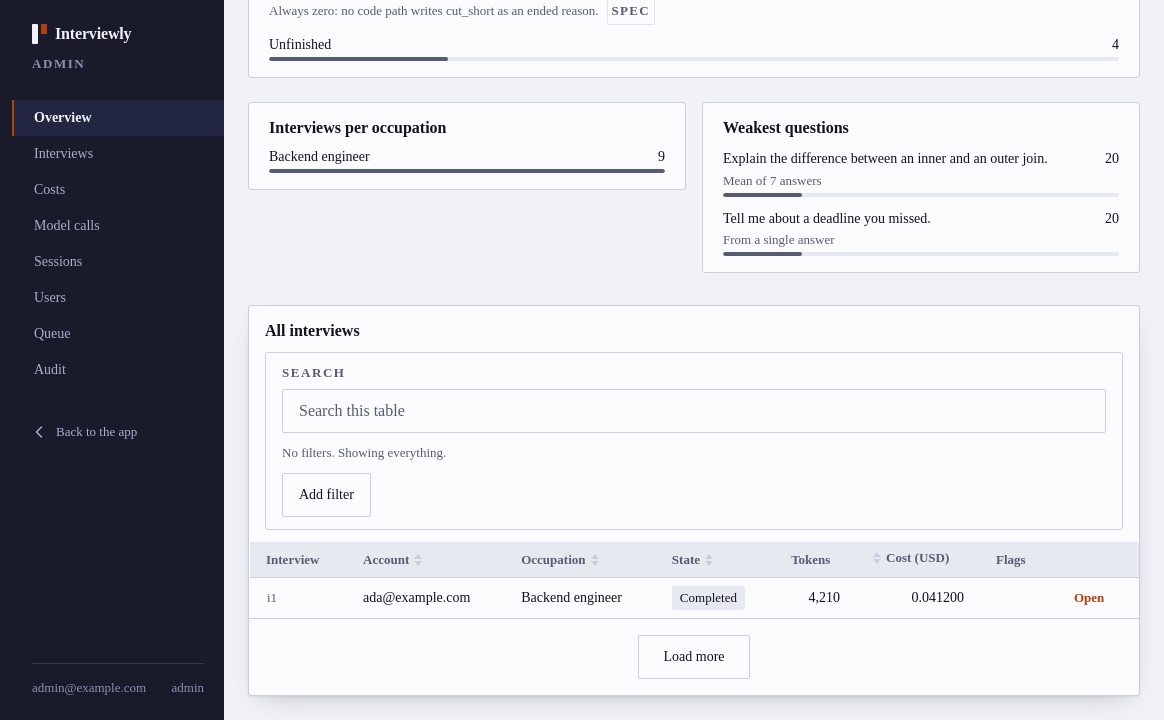
Scenario: admin list + stats (W11) › loads the next page from nextCursor, never an offset
(page scrolled)
Step 1. Click the button "Load more" → click(694, 657), box [638,635,750,679]
(page scrolled)
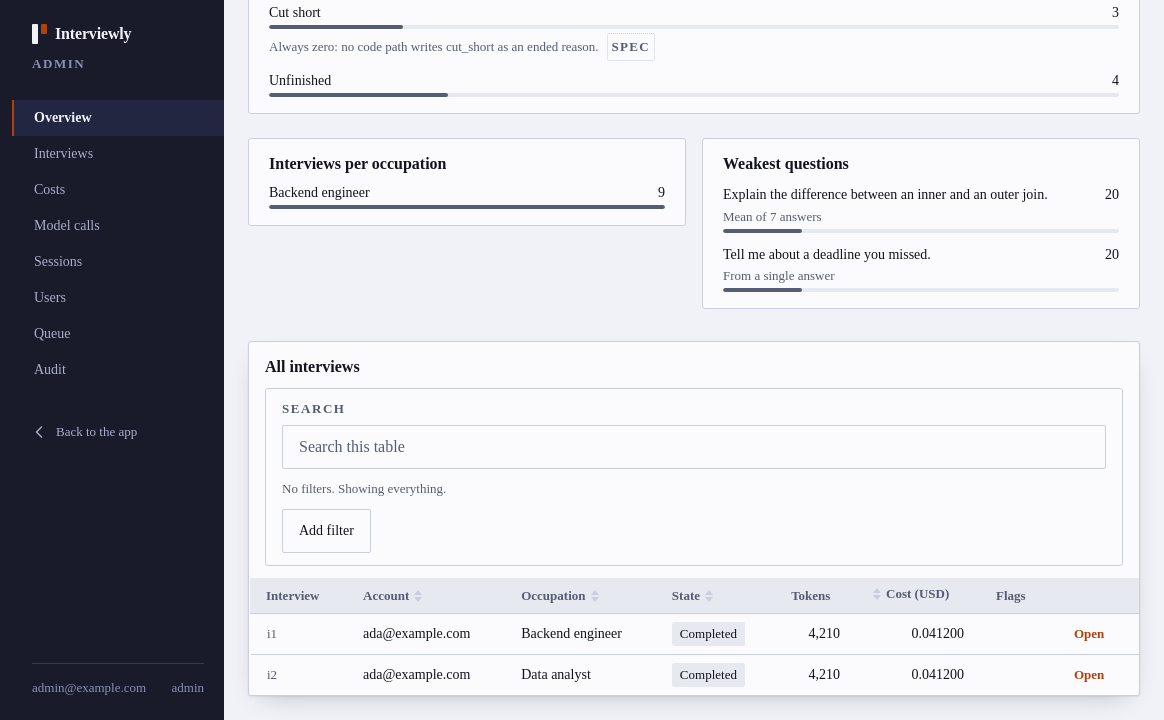
Check: the number of rows with test id "admin-interview-row" is 2, box [250,614,1139,655]; [250,655,1139,695]
Check: the button "Load more" is gone
